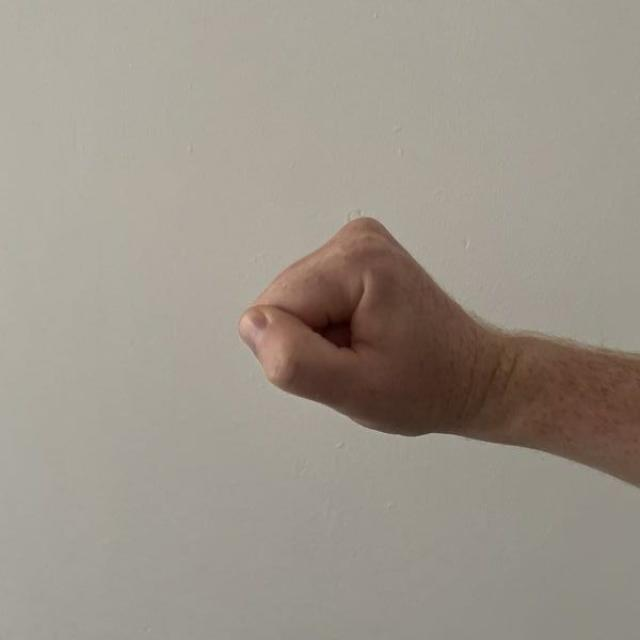rock: (232, 214, 529, 452)
